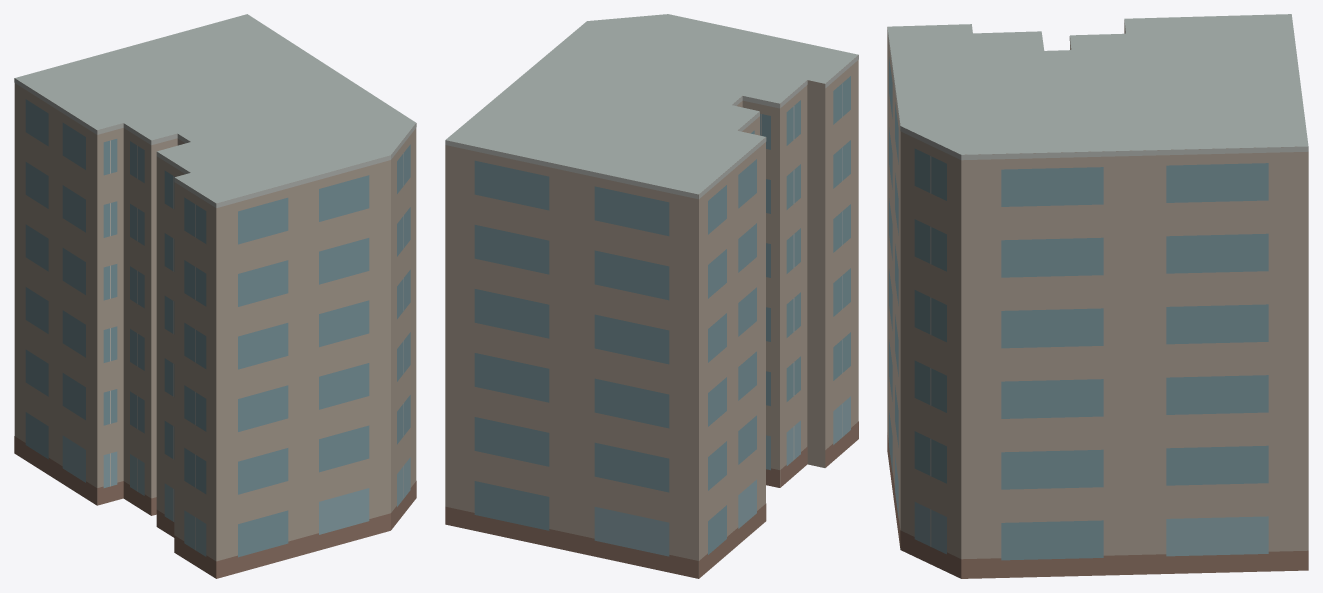
File: survey-upis-32976339.glb
The picture shows the model from 3 angles, left to right: view 1: azimuth 30°, elevation 25°; view 2: azimuth 150°, elevation 25°; view 3: azimuth 270°, elevation 25°; orthographic projection. The views are drawn at different scales.
Parts seen in each view (by area): view 1: survey-upis-32976339.tmp; view 2: survey-upis-32976339.tmp; view 3: survey-upis-32976339.tmp.
Boxes of the visible parts, left/top/right/bottom form: survey-upis-32976339.tmp: left=14, top=14, right=416, bottom=578; survey-upis-32976339.tmp: left=445, top=14, right=858, bottom=578; survey-upis-32976339.tmp: left=887, top=14, right=1308, bottom=578.
Size of the model in its own units: 13.83 by 19.4 by 17.47.
